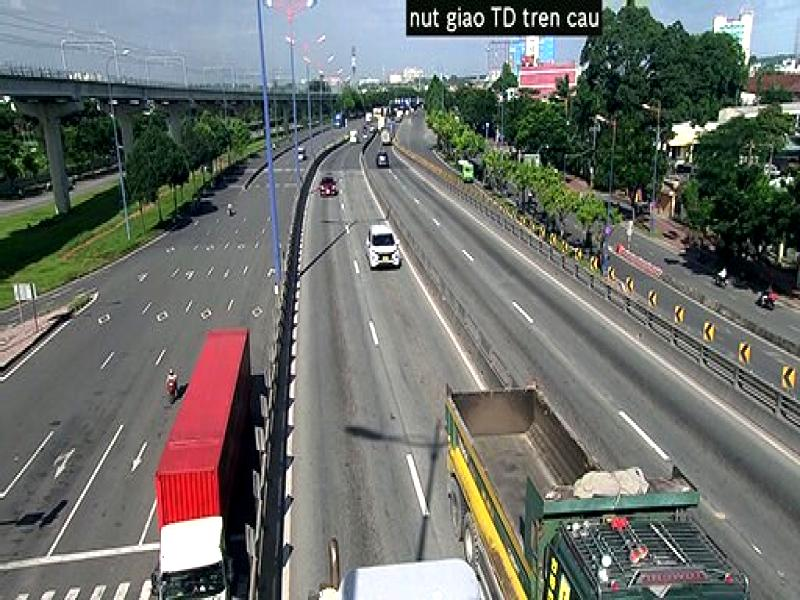truck: (153, 320, 249, 600)
